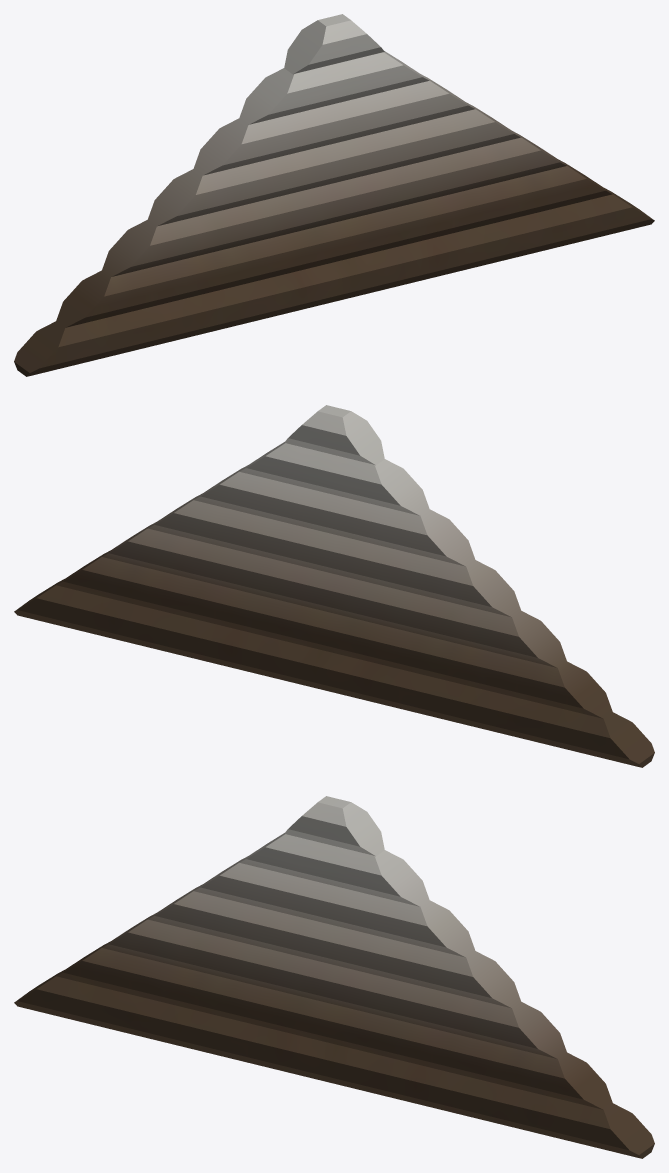
File: cabin_Wall_Pointed_Snow.obj
The picture shows the model from 3 angles, top to bottom: view 1: azimuth 30°, elevation 25°; view 2: azimuth 150°, elevation 25°; view 3: azimuth 330°, elevation 25°; orthographic projection.
Visible parts, largest first — view 1: cabin_Wall_Pointed_Snow; view 2: cabin_Wall_Pointed_Snow; view 3: cabin_Wall_Pointed_Snow.
Boxes of the visible parts, x1,y1,x2,y2 form: cabin_Wall_Pointed_Snow: (14,14,654,376); cabin_Wall_Pointed_Snow: (14,405,654,767); cabin_Wall_Pointed_Snow: (14,796,654,1158).
Bounding box in the file's own units: 8.92 × 3.78 × 0.5428.
